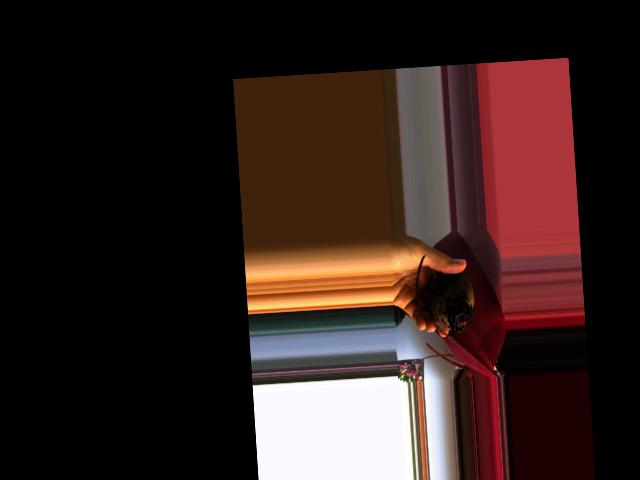beet: (414, 252, 476, 341)
